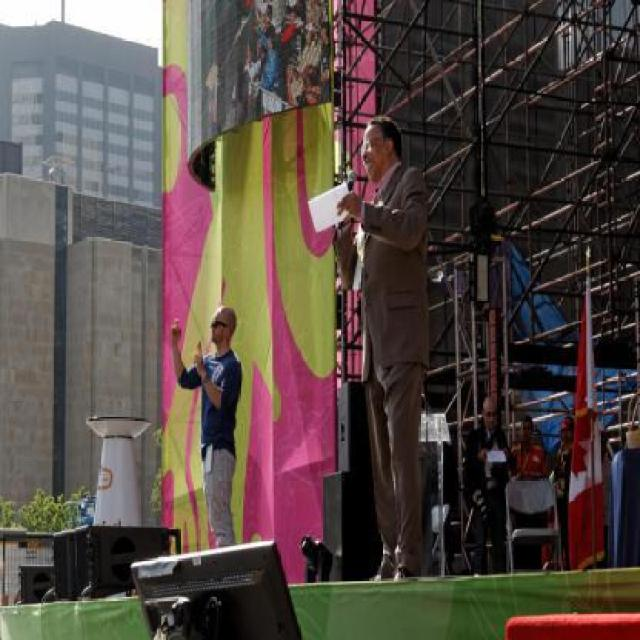Person: (332, 113, 430, 581), (464, 395, 613, 579), (169, 305, 245, 546)
